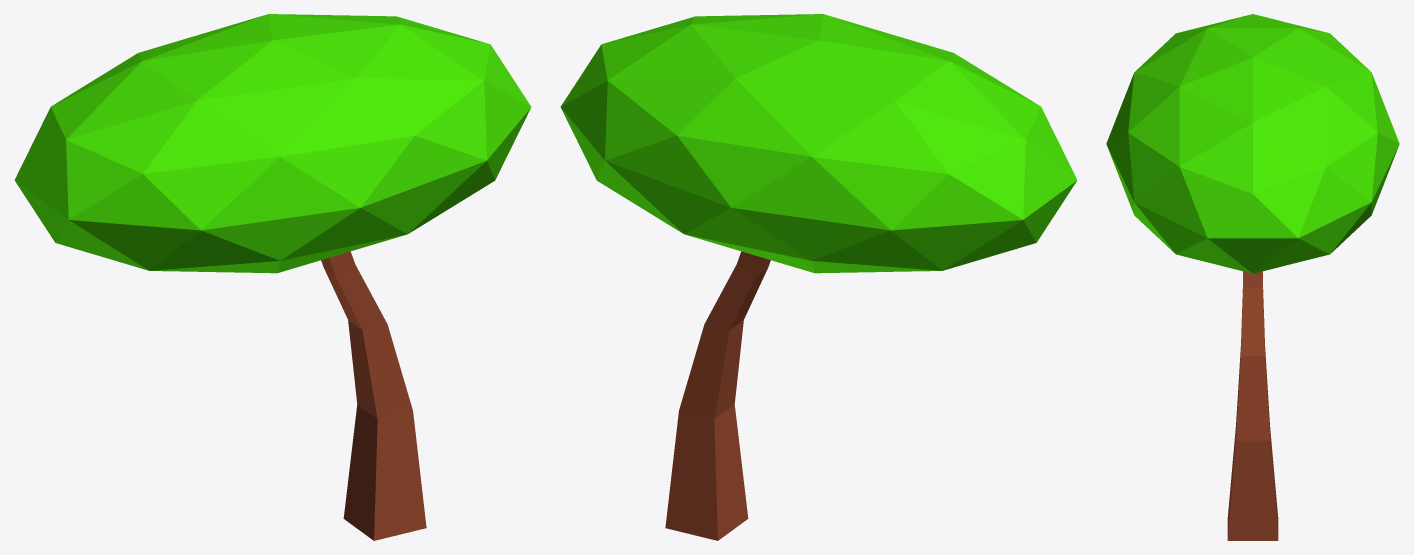
Rendered from Tree.fbx.
3 renders of one model, left to right at view 1: azimuth 30°, elevation 25°; view 2: azimuth 150°, elevation 25°; view 3: azimuth 270°, elevation 25°, orthographic. The views are drawn at different scales.
Visible parts, largest first — view 1: Cube; view 2: Cube; view 3: Cube.
Boxes of the visible parts, <box> form: Cube: <box>14,14,531,540</box>; Cube: <box>560,14,1077,540</box>; Cube: <box>1106,14,1399,540</box>.
Size of the model in its own units: 836 by 881 by 549.
